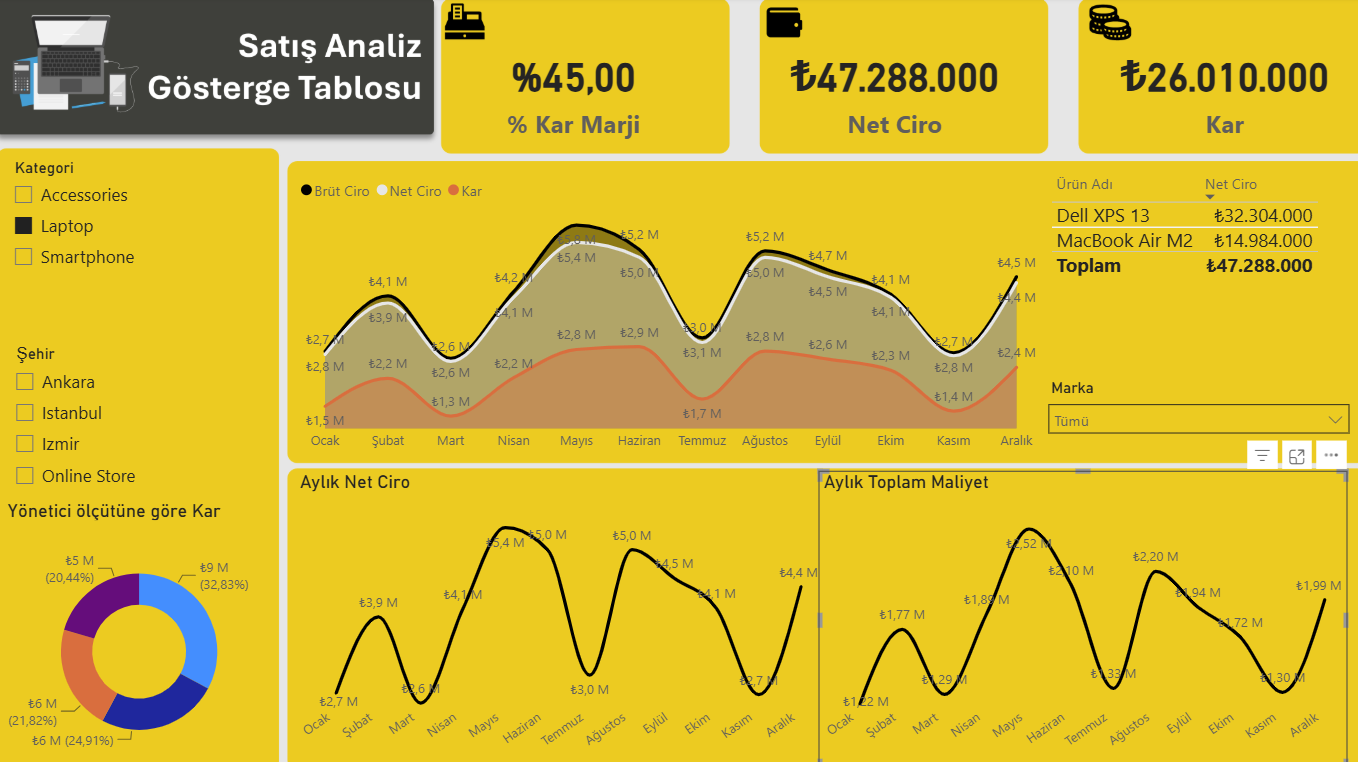

Layout of this report page (visuals, bound fields, positions):
{"tool":"powerbi","page":{"name":"1. sayfa","canvas":[1280,720],"ordinal":0},"visuals":[{"type":"card","fields":{"Values":["Ölçü Tablosu.Kar"]},"box":[1016.3,15.1,263.5,144.1],"z":0},{"type":"card","fields":{"Values":["Ölçü Tablosu.Net Ciro"]},"box":[709.4,15.1,263.5,144.1],"z":1000},{"type":"card","fields":{"Values":["Ölçü Tablosu.% Kar Marji"]},"box":[410.5,15.1,263.5,144.1],"z":2000},{"type":"areaChart","fields":{"Category":["Fact_Sales.Tarih.Varyasyon.Tarih Hiyerarşisi.Ay"],"Y":["Ölçü Tablosu.Brüt Ciro","Ölçü Tablosu.Net Ciro","Ölçü Tablosu.Kar"]},"box":[282.6,159.3,700,270.9],"z":3000},{"type":"tableEx","fields":{"Values":["Dim_Product.Ürün Adı","Ölçü Tablosu.Net Ciro"]},"box":[980.2,159.3,300,270.9],"z":3001},{"type":"slicer","fields":{"Values":["Dim_Product.Marka"]},"box":[973.3,350,300,68.6],"z":3002},{"type":"lineChart","title":"Aylık Net Ciro","fields":{"Category":["Fact_Sales.Tarih.Varyasyon.Tarih Hiyerarşisi.Ay"],"Y":["Ölçü Tablosu.Net Ciro"]},"box":[282.6,440.7,491.9,279.1],"z":3003},{"type":"lineChart","title":"Aylık Toplam Maliyet","fields":{"Category":["Fact_Sales.Tarih.Varyasyon.Tarih Hiyerarşisi.Ay"],"Y":["Ölçü Tablosu.Toplam Maliyet"]},"box":[769.8,440.7,491.9,279.1],"z":3004},{"type":"slicer","fields":{"Values":["Dim_Product.Kategori"]},"box":[9.3,145.3,254.7,150],"z":3005},{"type":"slicer","fields":{"Values":["Dim_Store.Şehir"]},"box":[10.5,317.4,254.7,150],"z":3006},{"type":"donutChart","fields":{"Y":["Ölçü Tablosu.Kar"],"Category":["Dim_Store.Yönetici"]},"box":[10,467,255,253],"z":3007}]}

Visuals, with their boxes in screenshot pixels (x1, y1, x2, y2), scaled from the page's 1280x720 canvas onto the 1358x762 screenshot:
card - Ölçü Tablosu.Kar: rect(1078, 16, 1357, 168)
card - Ölçü Tablosu.Net Ciro: rect(753, 16, 1032, 168)
card - Ölçü Tablosu.% Kar Marji: rect(436, 16, 715, 168)
areaChart - Fact_Sales.Tarih.Varyasyon.Tarih Hiyerarşisi.Ay x Ölçü Tablosu.Brüt Ciro: rect(300, 169, 1042, 455)
tableEx - Dim_Product.Ürün Adı x Ölçü Tablosu.Net Ciro: rect(1040, 169, 1357, 455)
slicer - Dim_Product.Marka: rect(1033, 370, 1351, 443)
"Aylık Net Ciro" lineChart: rect(300, 466, 822, 761)
"Aylık Toplam Maliyet" lineChart: rect(817, 466, 1339, 761)
slicer - Dim_Product.Kategori: rect(10, 154, 280, 313)
slicer - Dim_Store.Şehir: rect(11, 336, 281, 495)
donutChart - Ölçü Tablosu.Kar x Dim_Store.Yönetici: rect(11, 494, 281, 761)
